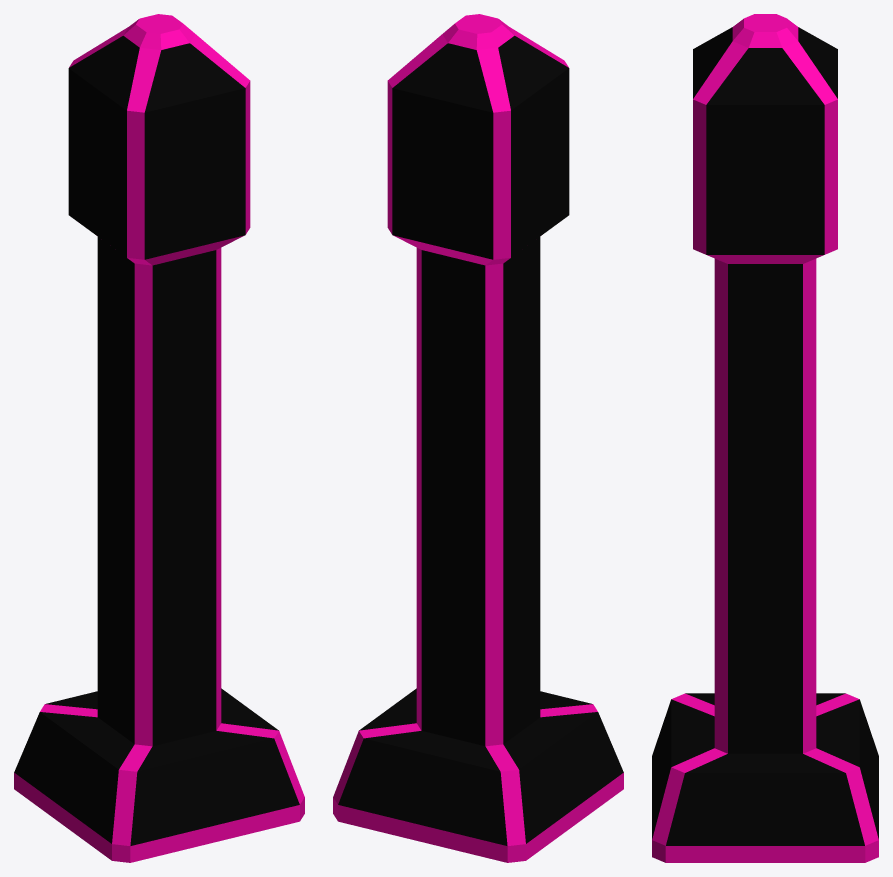
File: pole.FBX
3 views of the same model, side by side, from view 1: azimuth 30°, elevation 25°; view 2: azimuth 150°, elevation 25°; view 3: azimuth 270°, elevation 25° (orthographic).
Visible parts, largest first — view 1: Pole; view 2: Pole; view 3: Pole.
Boxes of the visible parts, box(x1,y1,x2,y2) form: Pole: box(14, 14, 304, 862); Pole: box(333, 14, 623, 862); Pole: box(652, 14, 878, 862).
Size of the model in its own units: 20.44 by 78.75 by 20.44.
